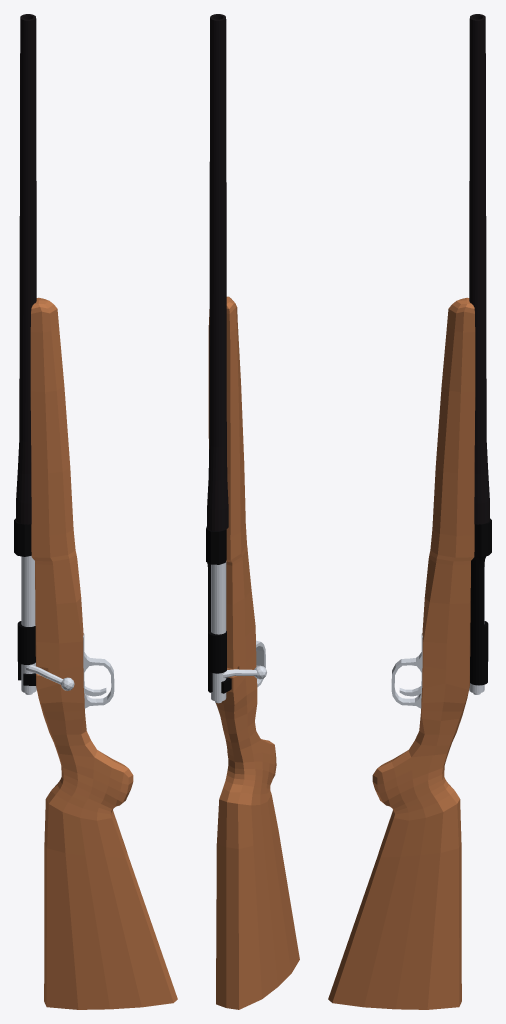
File: winchester-70.fbx
3 views of the same model, side by side, from view 1: azimuth 90°, elevation 25°; view 2: azimuth 150°, elevation 25°; view 3: azimuth 270°, elevation 25° (orthographic).
Visible parts, largest first — view 1: stock, barrel, chamber, bolt, trigger, bolt-handle; view 2: stock, barrel, chamber, bolt, bolt-handle, trigger; view 3: stock, barrel, chamber, trigger.
Boxes of the visible parts, x1=… form: stock: x1=30, y1=297, x2=177, y2=1009; barrel: x1=16, y1=14, x2=36, y2=524; chamber: x1=14, y1=518, x2=35, y2=685; bolt: x1=21, y1=556, x2=36, y2=694; trigger: x1=83, y1=632, x2=114, y2=708; bolt-handle: x1=25, y1=665, x2=74, y2=690; stock: x1=208, y1=296, x2=299, y2=1009; barrel: x1=207, y1=14, x2=228, y2=531; chamber: x1=206, y1=526, x2=231, y2=693; bolt: x1=211, y1=561, x2=226, y2=703; bolt-handle: x1=223, y1=665, x2=266, y2=679; trigger: x1=256, y1=640, x2=265, y2=687; stock: x1=328, y1=297, x2=475, y2=1009; barrel: x1=469, y1=14, x2=489, y2=524; chamber: x1=470, y1=518, x2=491, y2=685; trigger: x1=391, y1=632, x2=422, y2=708.
Bounding box in the file's own units: 5.78 × 118 × 17.87.
Materials: 2 (2 with a texture image).
